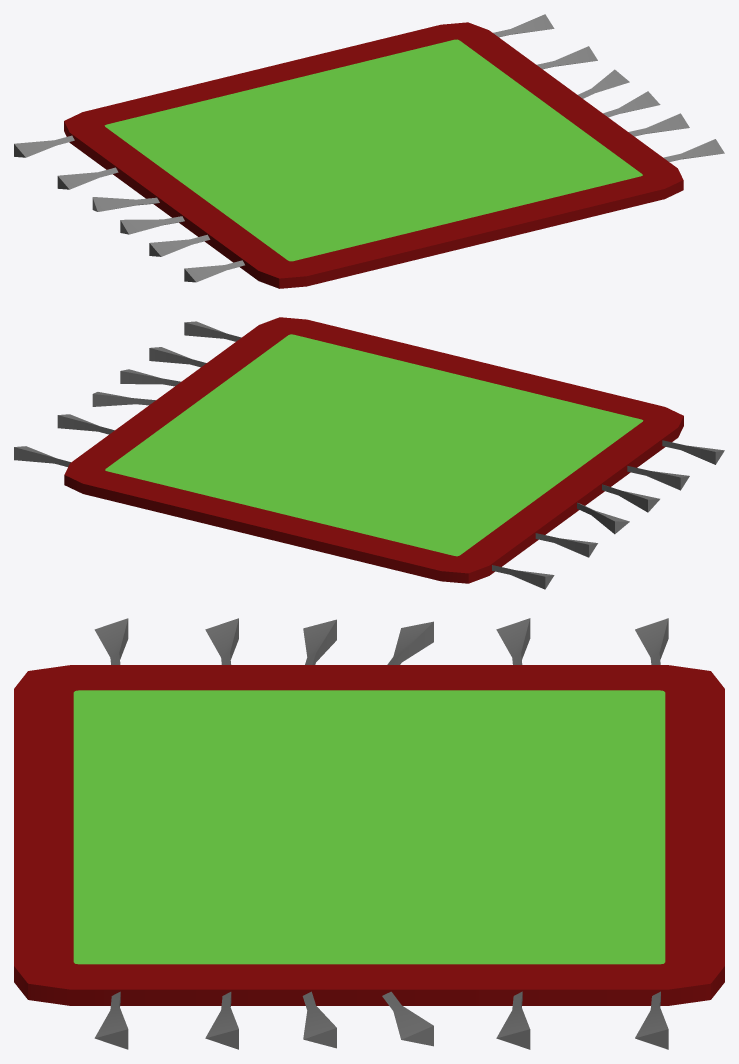
File: SM_carpet_small.fbx
The picture shows the model from 3 angles, top to bottom: view 1: azimuth 30°, elevation 25°; view 2: azimuth 150°, elevation 25°; view 3: azimuth 270°, elevation 25°; orthographic projection. The views are drawn at different scales.
Parts seen in each view (by area): view 1: Box009; view 2: Box009; view 3: Box009.
Boxes of the visible parts, x1,y1,x2,y2 form: Box009: (14, 14, 724, 288); Box009: (14, 317, 724, 589); Box009: (14, 618, 724, 1049).
Bounding box in the file's own units: 69.27 × 50.53 × 1.62.
